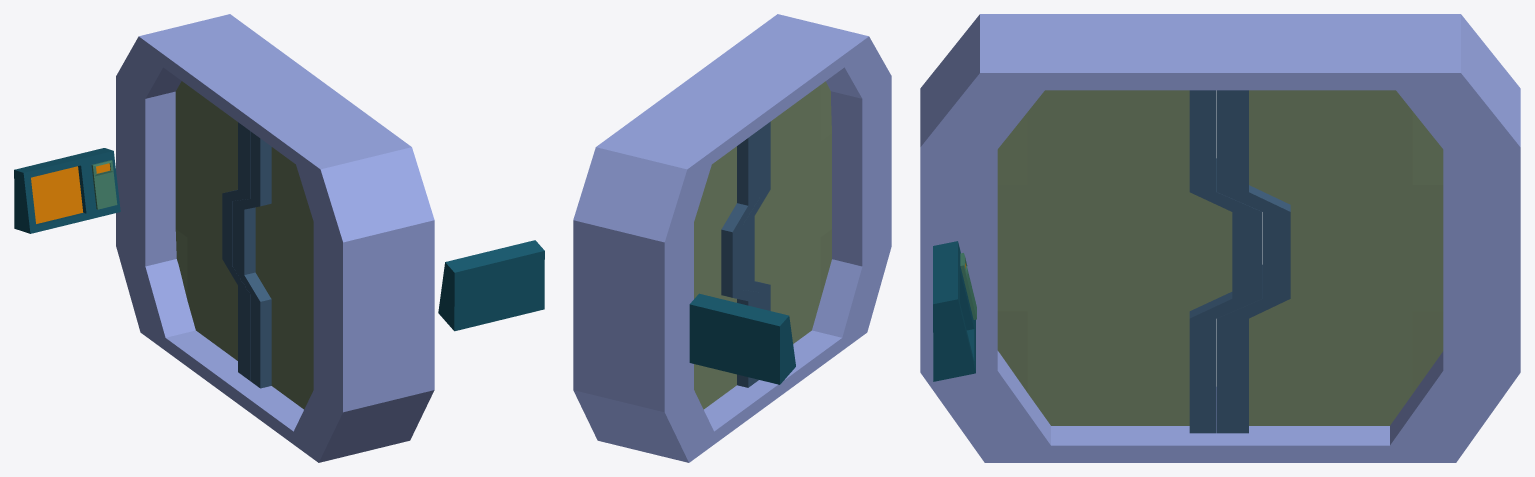
Rendered from DOOR.fbx.
The picture shows the model from 3 angles, left to right: view 1: azimuth 30°, elevation 25°; view 2: azimuth 150°, elevation 25°; view 3: azimuth 270°, elevation 25°; orthographic projection. The views are drawn at different scales.
Visible parts, largest first — view 1: Cube.002, Cube.001, Cube, Cube.005, Cube.008; view 2: Cube.002, Cube.001, Cube, Cube.008; view 3: Cube.002, Cube.001, Cube, Cube.005.
Part boxes in pixels (x1,y1,x2,y2): Cube.002: [116, 14, 434, 462]; Cube.001: [233, 131, 313, 409]; Cube: [175, 81, 250, 380]; Cube.005: [438, 240, 544, 331]; Cube.008: [14, 148, 120, 233]; Cube.002: [573, 14, 891, 462]; Cube.001: [743, 81, 831, 343]; Cube: [694, 129, 760, 409]; Cube.008: [689, 293, 795, 384]; Cube.002: [920, 14, 1520, 462]; Cube.001: [997, 90, 1262, 433]; Cube: [1217, 90, 1443, 433]; Cube.005: [933, 241, 976, 381].
Size of the model in its own units: 671 by 600 by 837.
